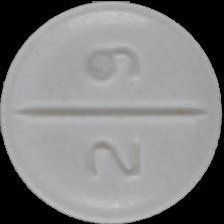65862-028: (0, 0, 224, 224)
